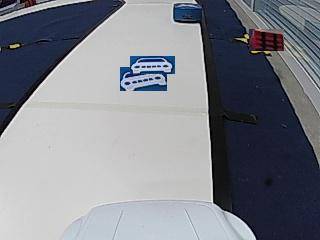prop: (174, 3, 201, 24)
